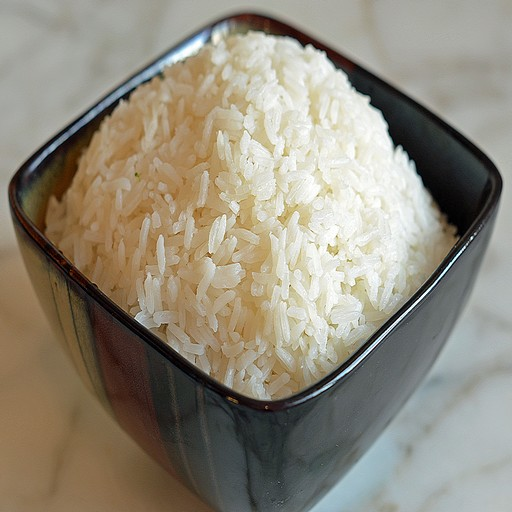rice: (148, 128, 384, 312)
